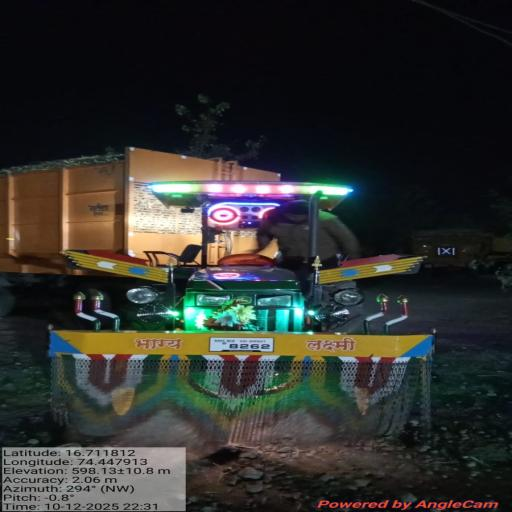number_plate: (201, 336, 297, 357)
